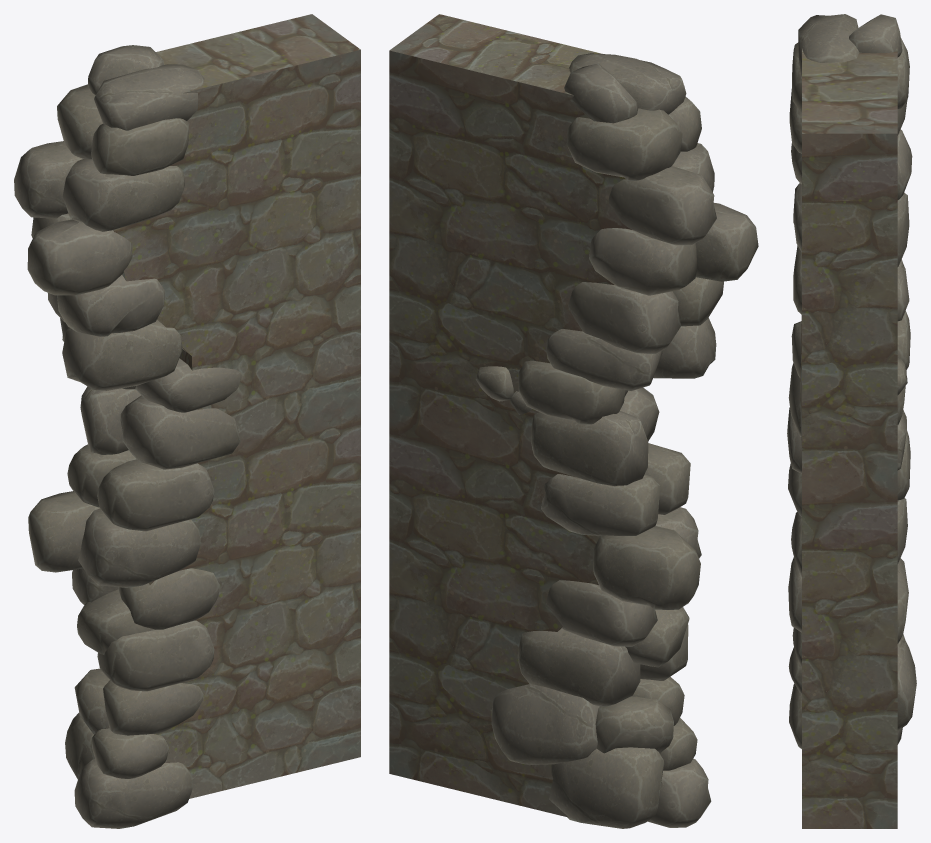
The model's file is SM_FW01_Ruins_Int_Wall_A_2x4_Brkn_L_01.fbx.
3 renders of one model, left to right at view 1: azimuth 30°, elevation 25°; view 2: azimuth 150°, elevation 25°; view 3: azimuth 270°, elevation 25°, orthographic. The views are drawn at different scales.
Parts seen in each view (by area): view 1: SM_FW01_Ruins_Int_Wall_A_2x4_Brkn_L_01, SM_FW01_Ruins_Int_Wall_A_2x4_Brkn_L_01_LOD0; view 2: SM_FW01_Ruins_Int_Wall_A_2x4_Brkn_L_01, SM_FW01_Ruins_Int_Wall_A_2x4_Brkn_L_01_LOD0; view 3: SM_FW01_Ruins_Int_Wall_A_2x4_Brkn_L_01, SM_FW01_Ruins_Int_Wall_A_2x4_Brkn_L_01_LOD0.
Boxes of the visible parts, <box> form: SM_FW01_Ruins_Int_Wall_A_2x4_Brkn_L_01: <box>113,14,360,798</box>; SM_FW01_Ruins_Int_Wall_A_2x4_Brkn_L_01_LOD0: <box>14,45,240,828</box>; SM_FW01_Ruins_Int_Wall_A_2x4_Brkn_L_01: <box>389,14,631,817</box>; SM_FW01_Ruins_Int_Wall_A_2x4_Brkn_L_01_LOD0: <box>475,53,758,828</box>; SM_FW01_Ruins_Int_Wall_A_2x4_Brkn_L_01: <box>800,47,897,828</box>; SM_FW01_Ruins_Int_Wall_A_2x4_Brkn_L_01_LOD0: <box>787,14,916,748</box>.
Size of what is drawn, in the model's own units: 1.86 by 4.19 by 0.6764.
